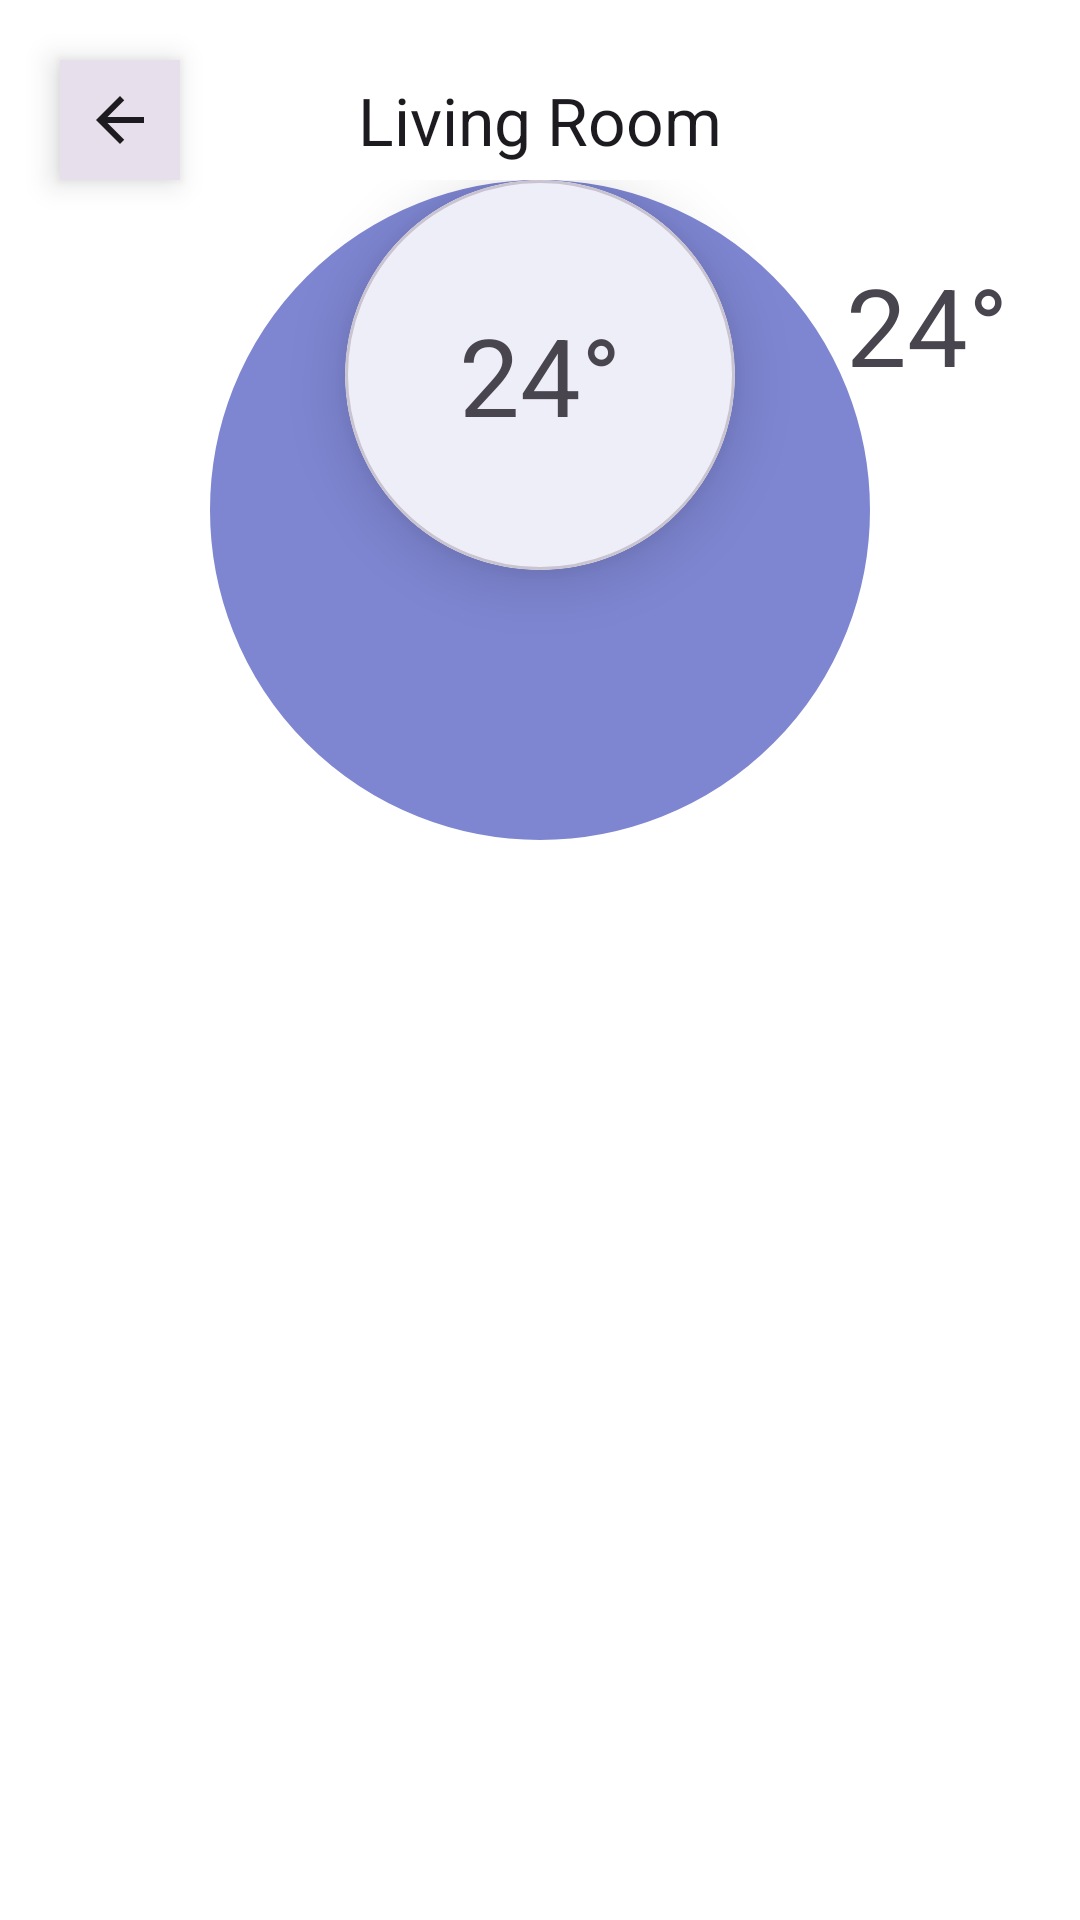

Locate icon controls on the screen. Image size 1080×1920, boxes as rect(x1, y1, x2, y2).
arrow back: rect(60, 60, 180, 180)
